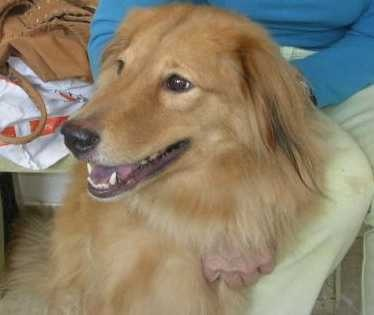Dog: (58, 4, 324, 284)
